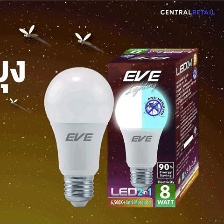carton: (103, 45, 202, 210)
light_bulb: (41, 65, 115, 208)
